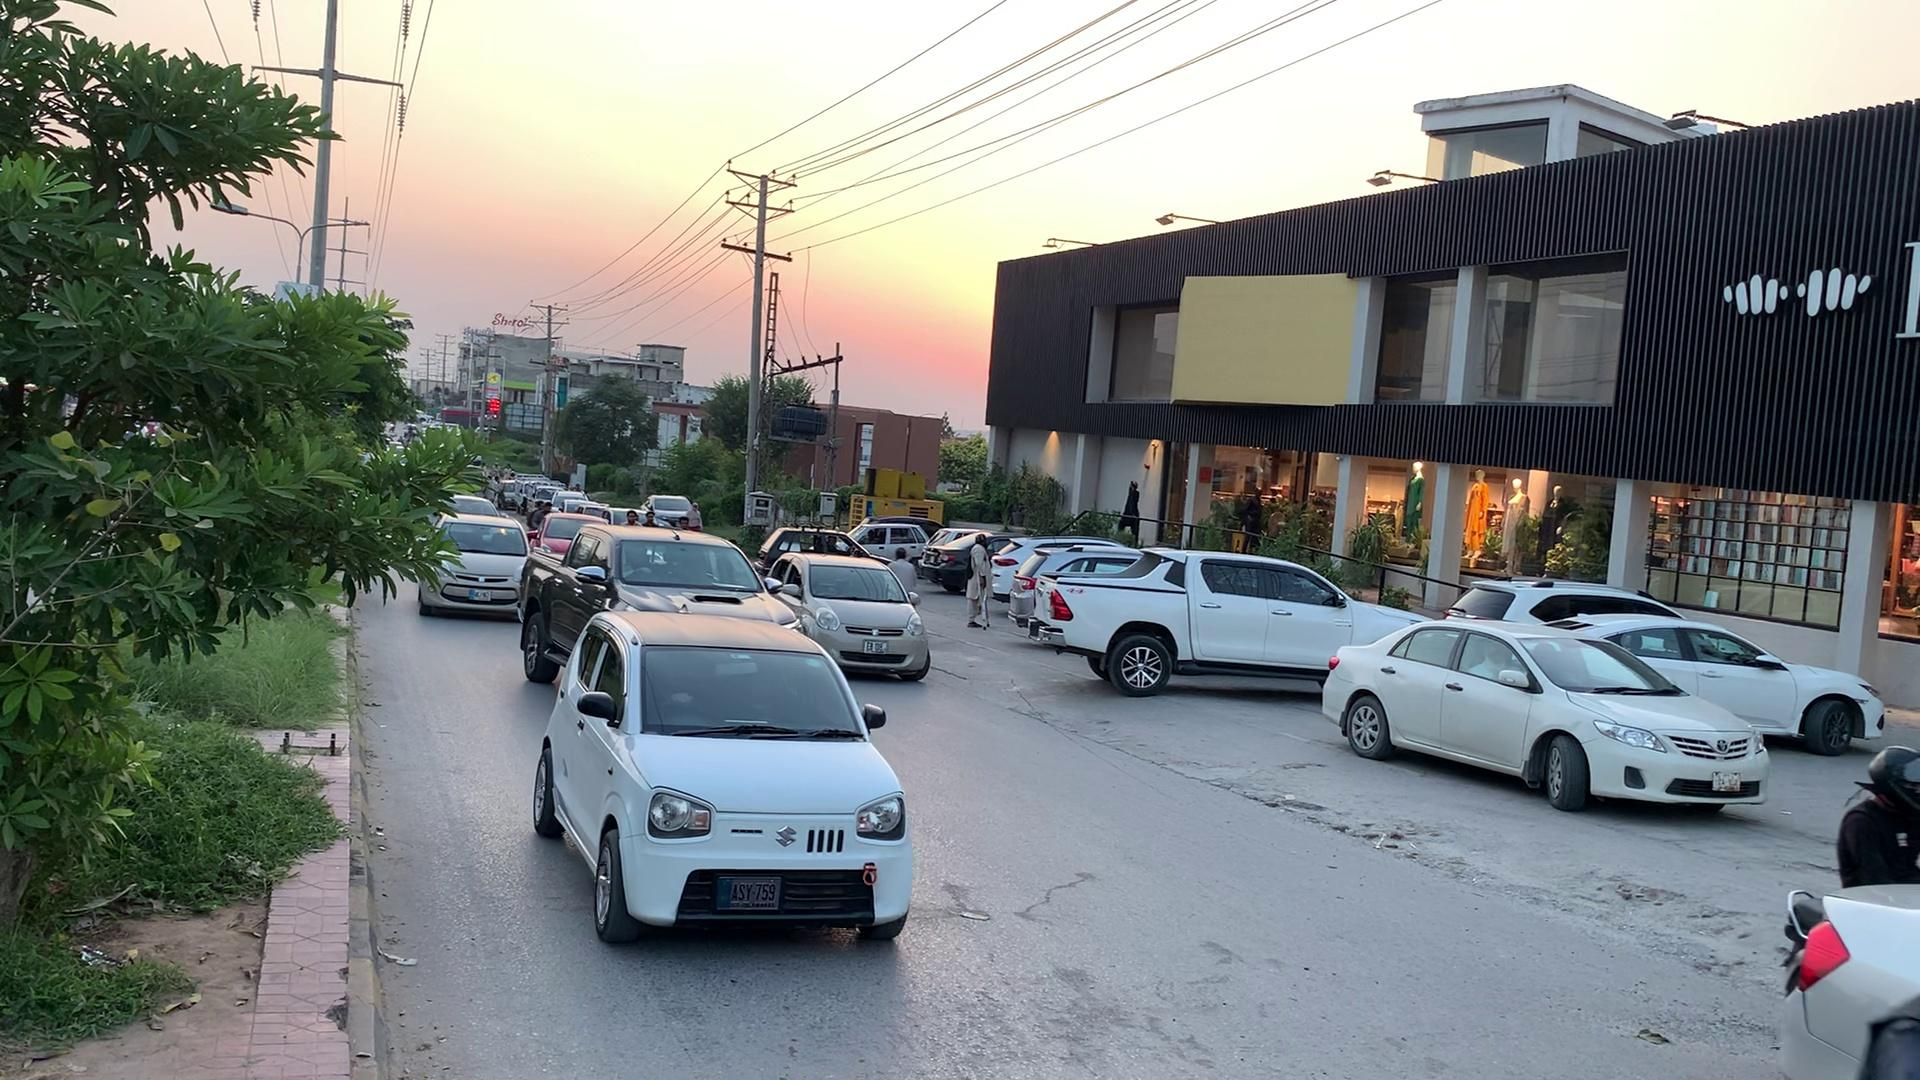windshield: (634, 630, 894, 764)
